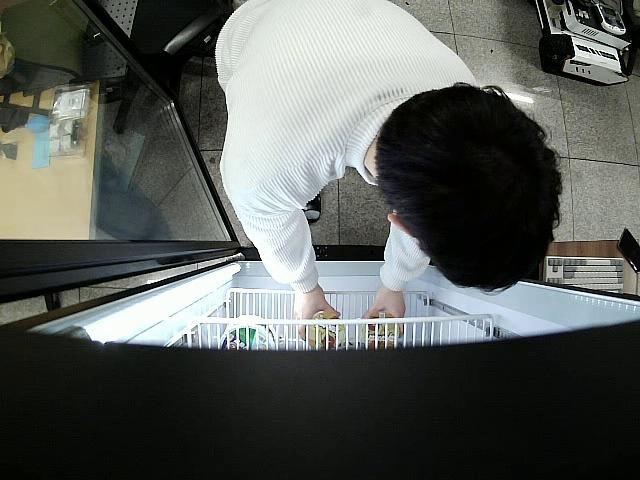04_chapagetti_S: (358, 312, 403, 354), (305, 308, 345, 348)
